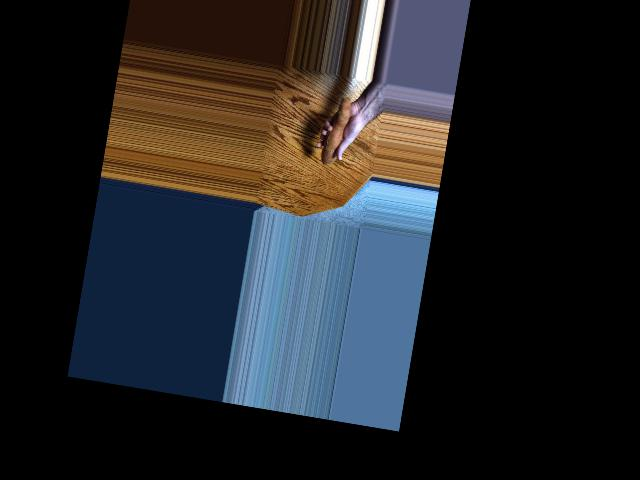sweet_potato: (318, 88, 360, 169)
